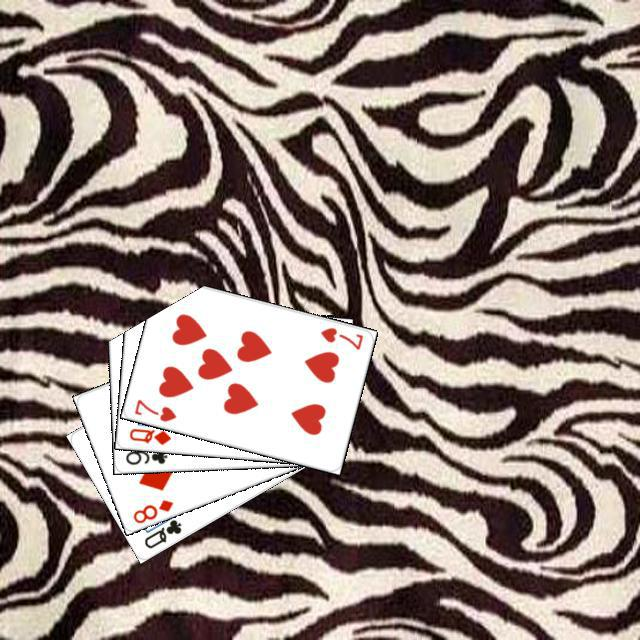7h: (316, 322, 365, 352), (129, 394, 178, 423)
8d: (128, 494, 175, 525)
9c: (121, 444, 169, 467)
Qc: (139, 507, 183, 550)
Qd: (125, 423, 172, 446)
